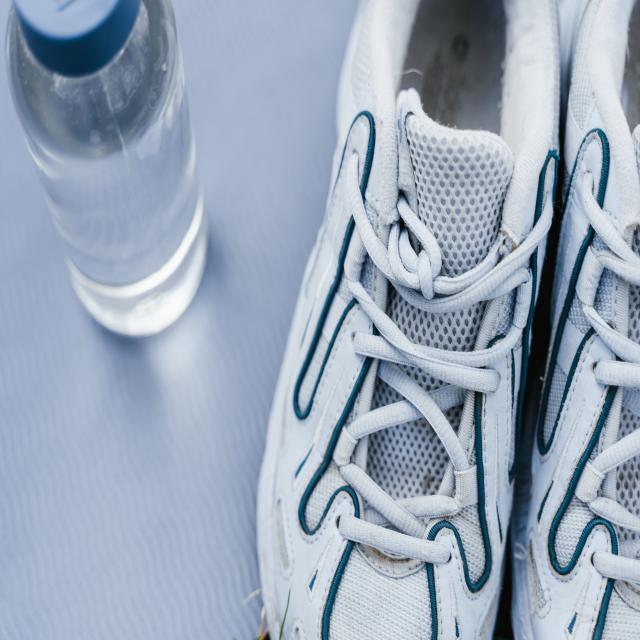Bottle: (7, 0, 206, 335)
